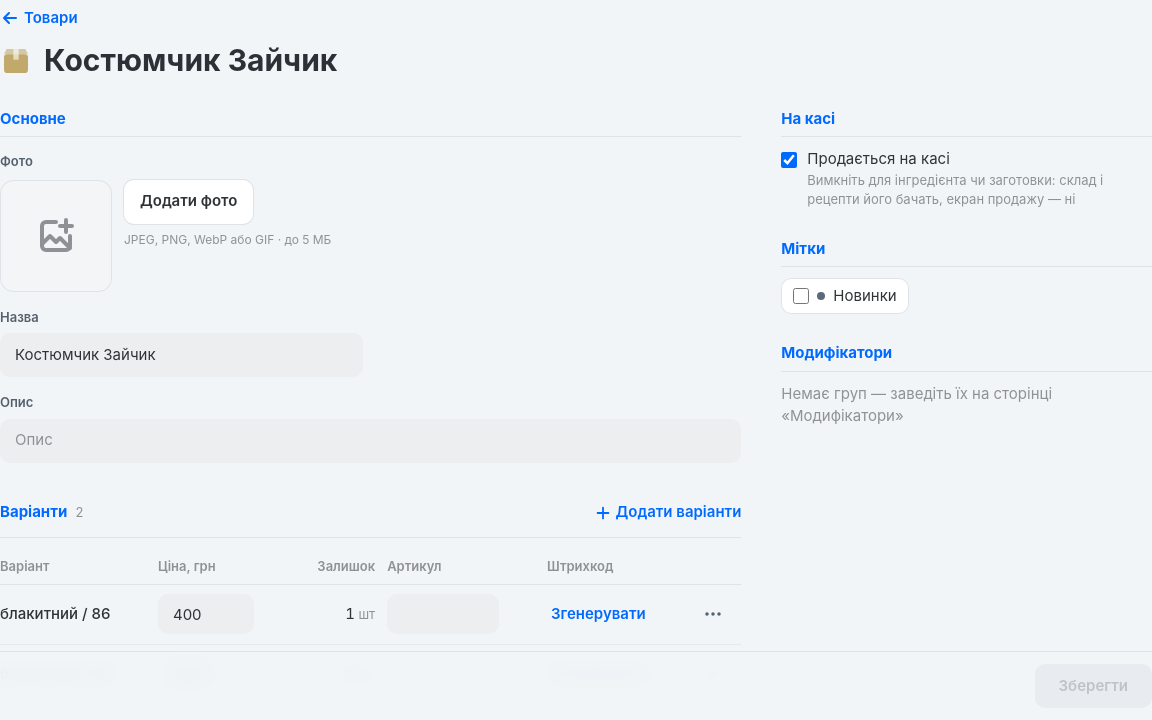
Test: the sheet of one variant › throws its copy away on Скасувати
Click the button named "Ще · блакитний / 86" at (713, 614), box x1=695 y1=596 x2=731 y2=632
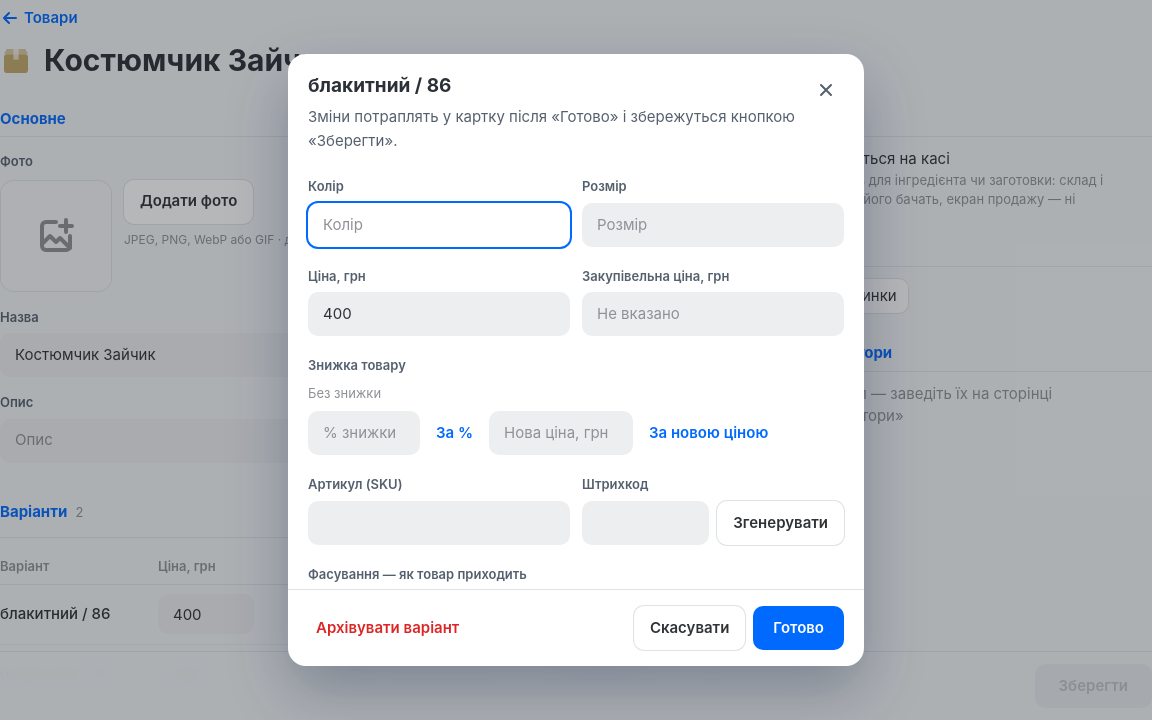
Type "120" into the field with placeholder "Не вказано" at (713, 314), box x1=582 y1=292 x2=844 y2=336
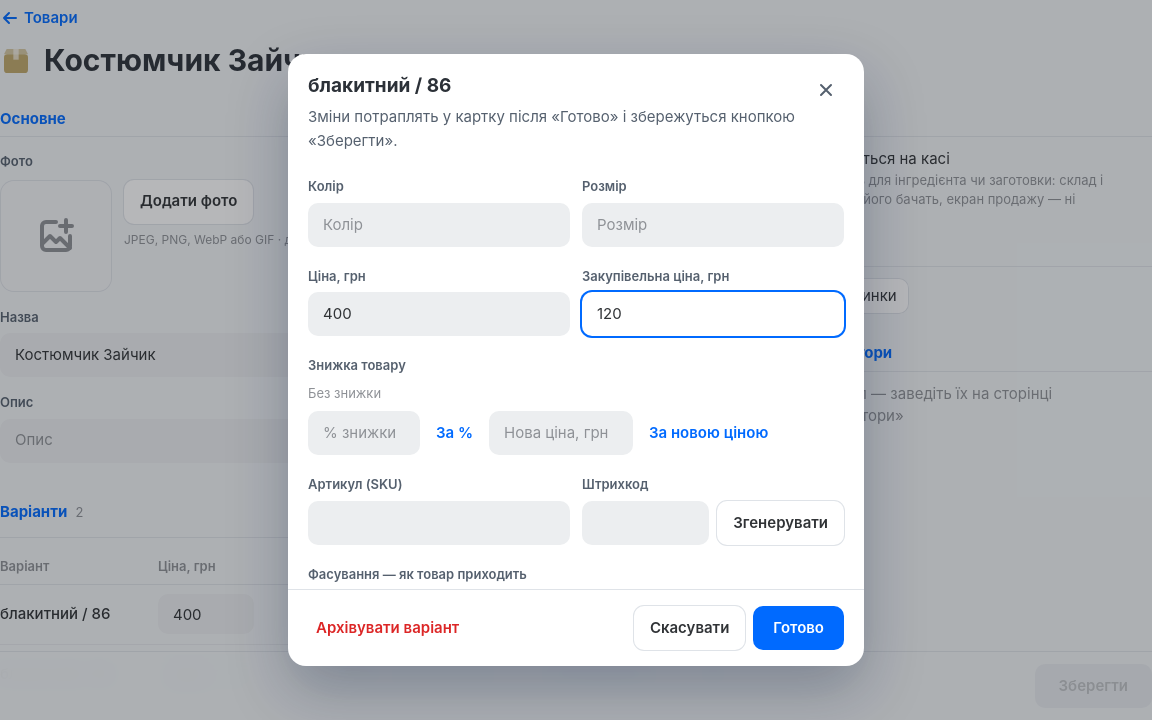
Click the button "Скасувати" at (690, 628), box x1=634 y1=606 x2=745 y2=650
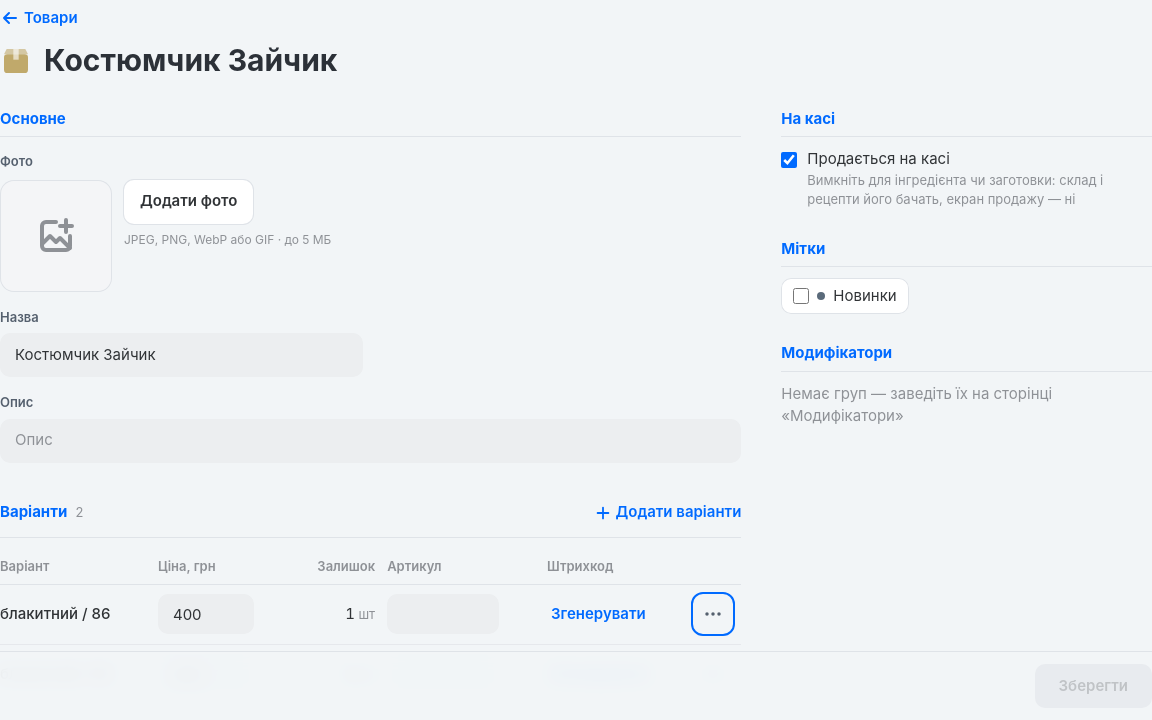
Expected: the button "Зберегти" is disabled, x1=1034 y1=664 x2=1151 y2=708
Expected: the dialog is gone
